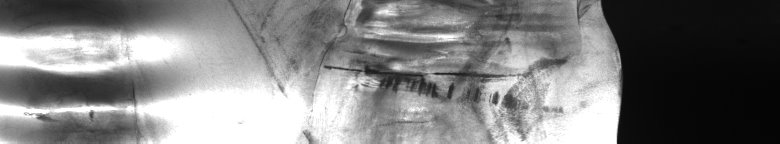ke: (8, 28, 140, 122)
